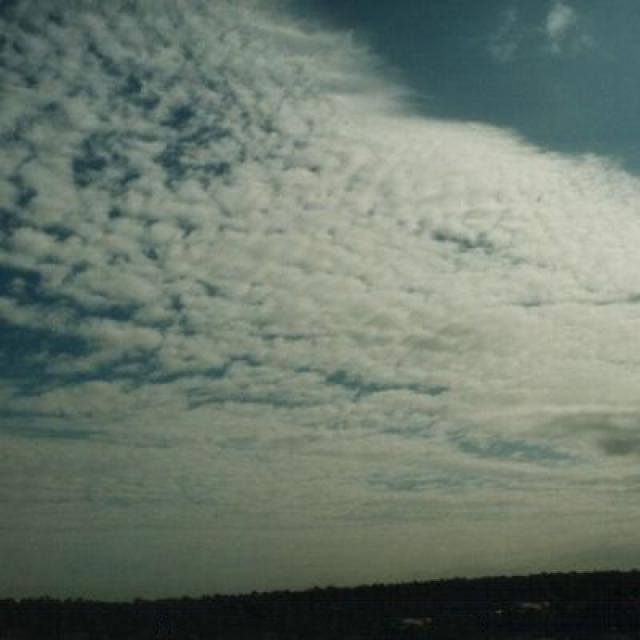Sc: (1, 16, 640, 427)
